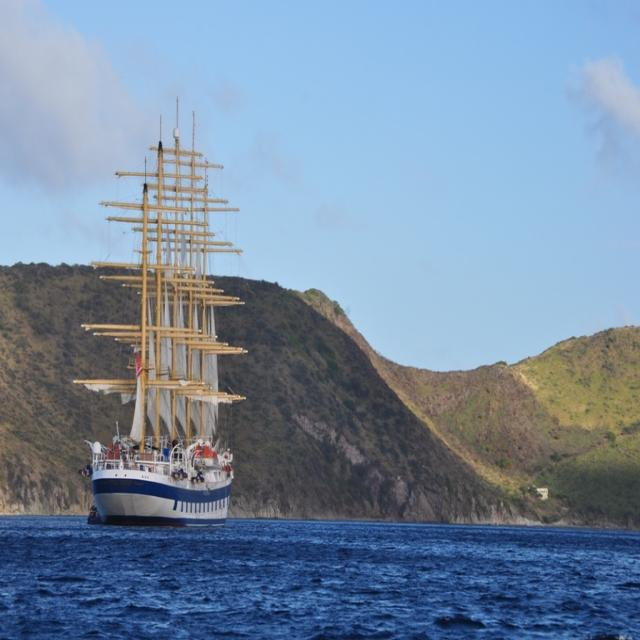Boat: (72, 94, 264, 558)
